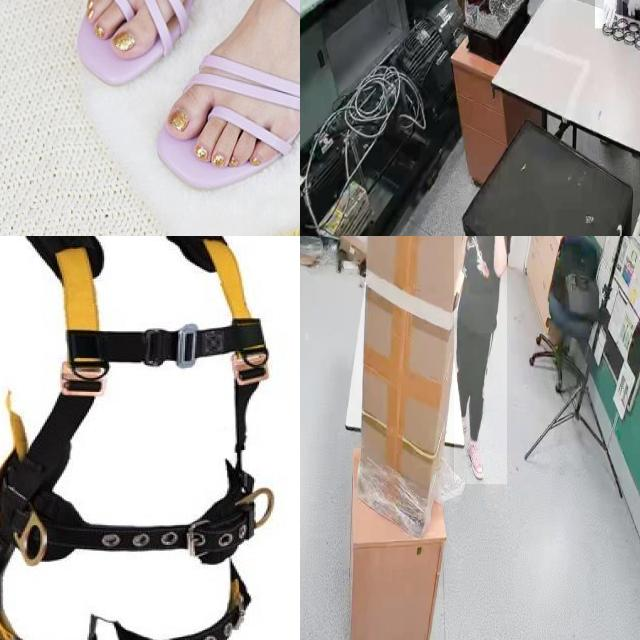Harness: (0, 236, 273, 640), (168, 565, 251, 640)
Sandals: (37, 0, 300, 235)
hand_glove: (594, 0, 623, 29), (624, 0, 640, 30)
person: (454, 236, 507, 485)
shoes: (466, 435, 484, 478)
